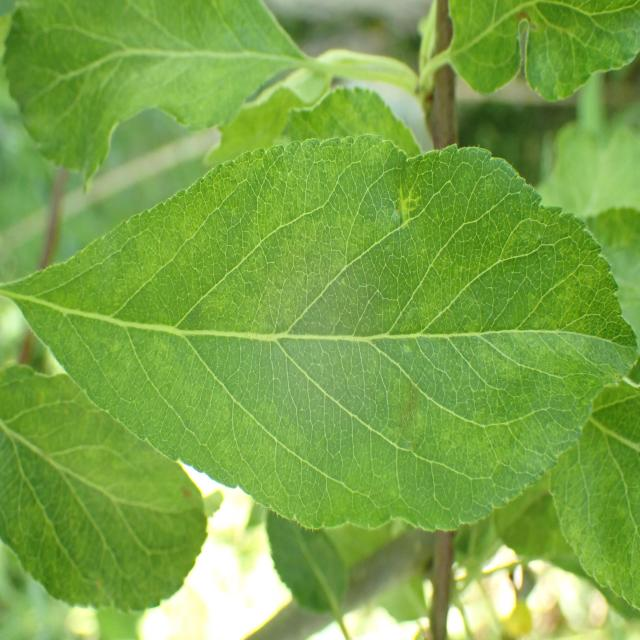scab: (112, 212, 605, 470)
